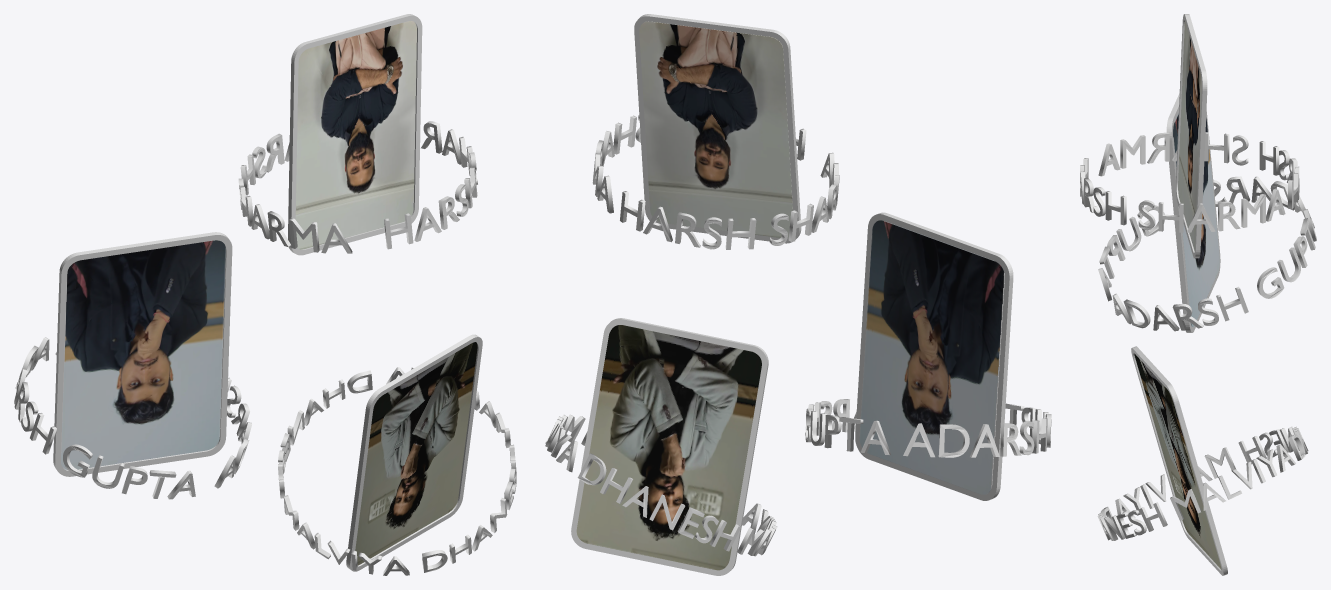
3 views of the same model, side by side, from view 1: azimuth 30°, elevation 25°; view 2: azimuth 150°, elevation 25°; view 3: azimuth 270°, elevation 25° (orthographic). The views are drawn at different scales.
Parts seen in each view (by area): view 1: BG_image.003, BG_image.002, BG_image.004, Ht, dh, Outline stroke.003, ag, Outline stroke.002, Outline stroke.004; view 2: BG_image.004, BG_image.003, BG_image.002, Ht, ag, Outline stroke.003, dh, Outline stroke.004, Outline stroke.002; view 3: Ht, ag, dh, BG_image.004, BG_image.002, BG_image.003, Outline stroke.004, Outline stroke.002, Outline stroke.003.
Part boxes in pixels (<box>): BG_image.003: <box>61,240,225,469</box>; BG_image.002: <box>295,21,416,249</box>; BG_image.004: <box>355,342,477,565</box>; Ht: <box>238,121,477,253</box>; dh: <box>278,367,516,575</box>; Outline stroke.003: <box>53,232,232,476</box>; ag: <box>14,337,251,499</box>; Outline stroke.002: <box>288,14,422,255</box>; Outline stroke.004: <box>346,334,482,571</box>; BG_image.004: <box>576,325,761,570</box>; BG_image.003: <box>859,220,1004,494</box>; BG_image.002: <box>639,21,792,237</box>; Ht: <box>592,115,839,249</box>; ag: <box>805,399,1051,457</box>; Outline stroke.003: <box>855,212,1013,500</box>; dh: <box>545,414,777,556</box>; Outline stroke.004: <box>571,318,768,575</box>; Outline stroke.002: <box>634,14,801,243</box>; Ht: <box>1080,132,1299,232</box>; ag: <box>1098,176,1316,331</box>; dh: <box>1098,426,1308,540</box>; BG_image.004: <box>1134,354,1221,569</box>; BG_image.002: <box>1178,21,1201,251</box>; BG_image.003: <box>1173,113,1219,326</box>; Outline stroke.004: <box>1131,346,1227,575</box>; Outline stroke.002: <box>1176,14,1207,258</box>; Outline stroke.003: <box>1166,93,1220,332</box>.
Bounding box in the file's own units: 1.53 × 1.69 × 0.728.
Materials: 4 (3 with a texture image).
